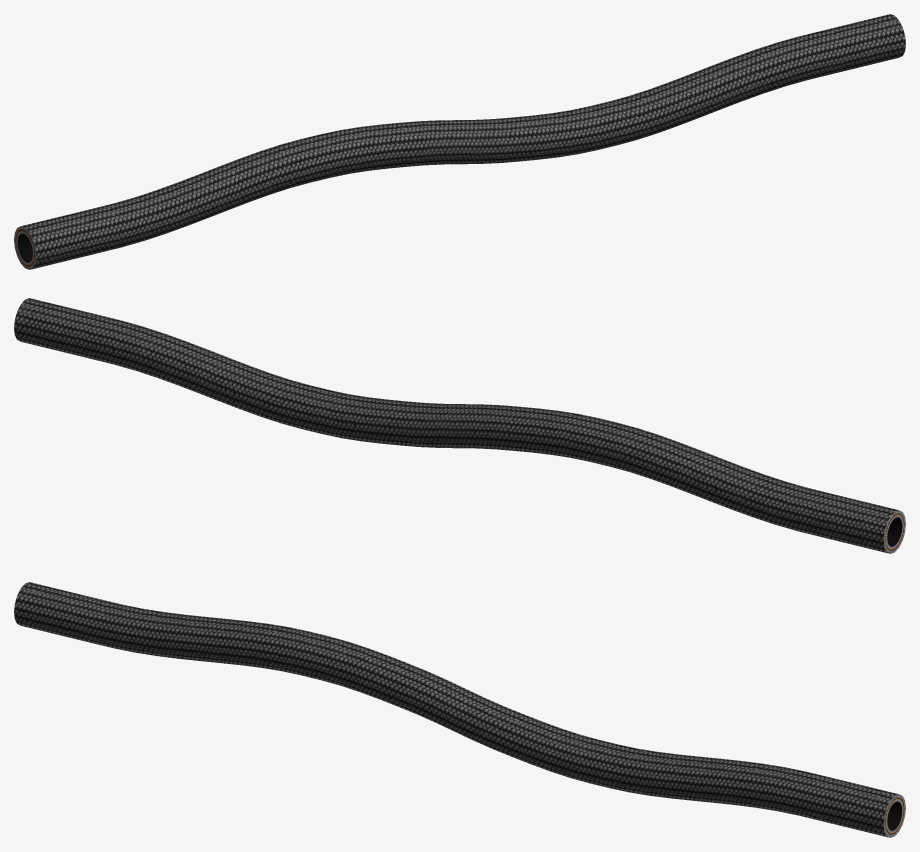
3 views of the same model, one above another, from view 1: azimuth 30°, elevation 25°; view 2: azimuth 150°, elevation 25°; view 3: azimuth 330°, elevation 25° (orthographic).
Parts seen in each view (by area): view 1: Aramid_Braid.001; view 2: Aramid_Braid.001; view 3: Aramid_Braid.001.
Part boxes in pixels (x1,y1,x2,y2): Aramid_Braid.001: (14, 14, 905, 269); Aramid_Braid.001: (14, 298, 905, 553); Aramid_Braid.001: (14, 582, 905, 837).
Size of the model in its own units: 0.3074 by 0.0264 by 0.0137.
Materials: 2 (2 with a texture image).
